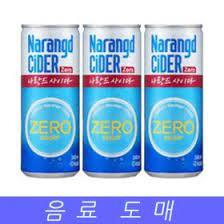narangdcider: (142, 24, 204, 179), (19, 24, 81, 178), (81, 24, 142, 178)
